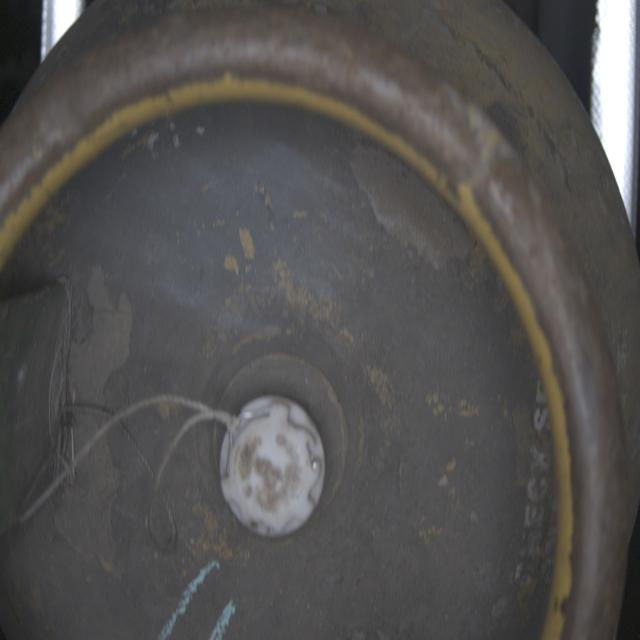Cap: (216, 392, 330, 540)
